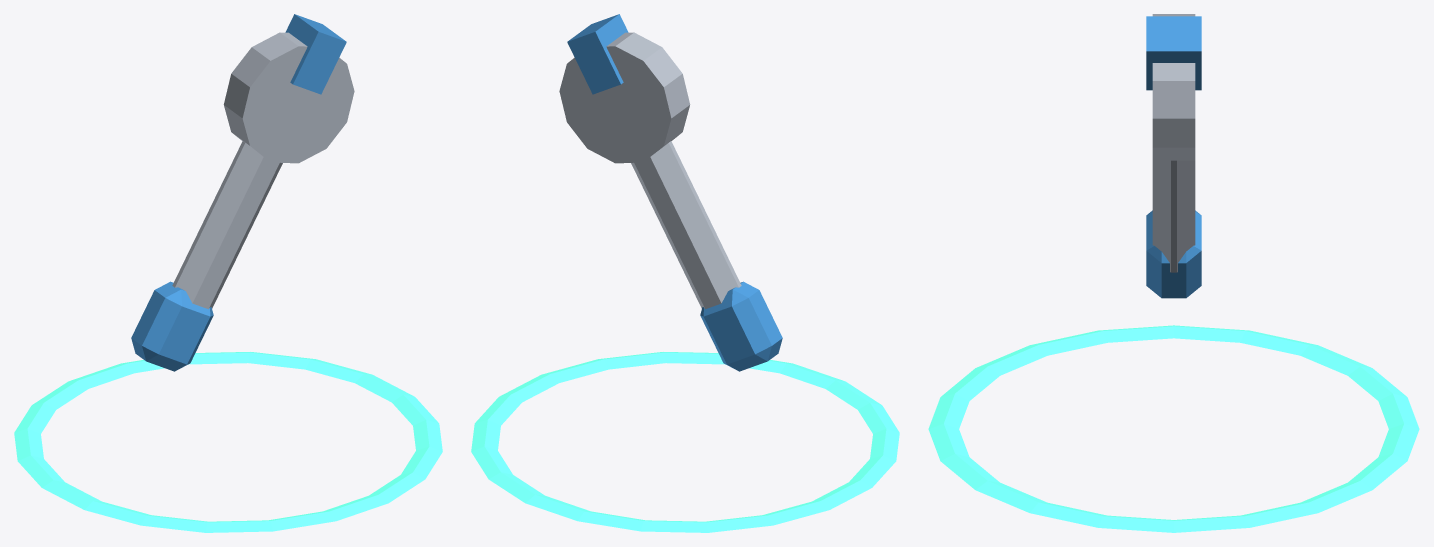
File: pu_repair.glb
3 views of the same model, side by side, from view 1: azimuth 30°, elevation 25°; view 2: azimuth 150°, elevation 25°; view 3: azimuth 270°, elevation 25° (orthographic). The views are drawn at different scales.
Visible parts, largest first — view 1: pu_repair; view 2: pu_repair; view 3: pu_repair.
Boxes of the visible parts, x1,y1,x2,y2 form: pu_repair: (14, 14, 442, 532); pu_repair: (471, 14, 899, 532); pu_repair: (928, 14, 1419, 532).
Size of the model in its own units: 1.6 by 1.66 by 1.6.
